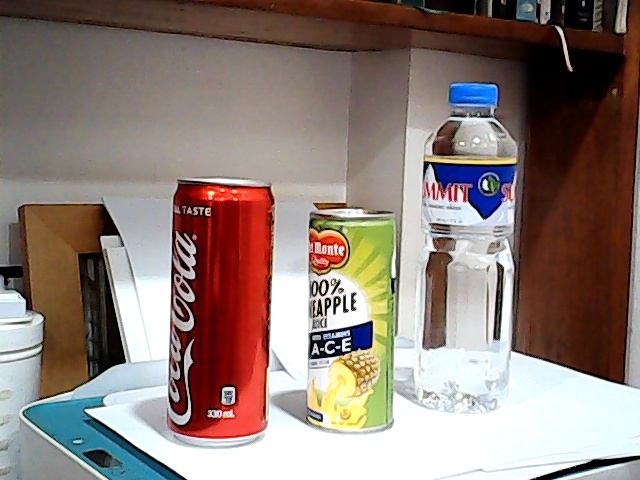Cola: (161, 168, 285, 452)
Pine Juice: (299, 198, 408, 441)
Summit Water: (408, 77, 530, 421)
